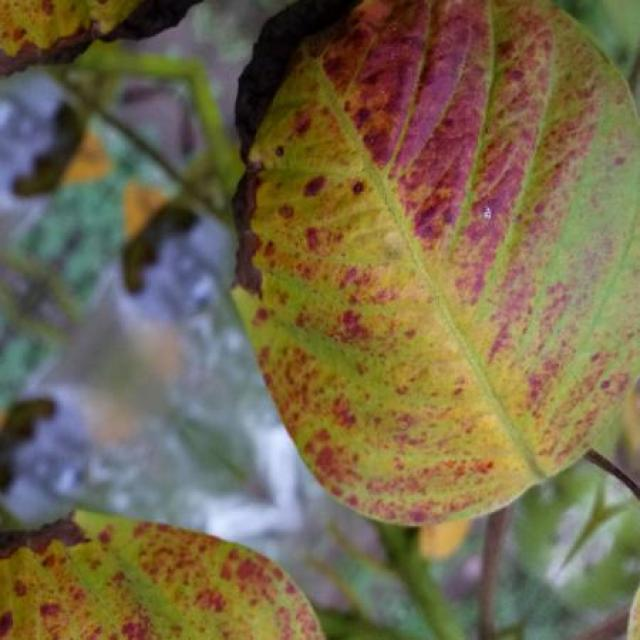Red Rust: (232, 0, 640, 524), (0, 510, 325, 640)
